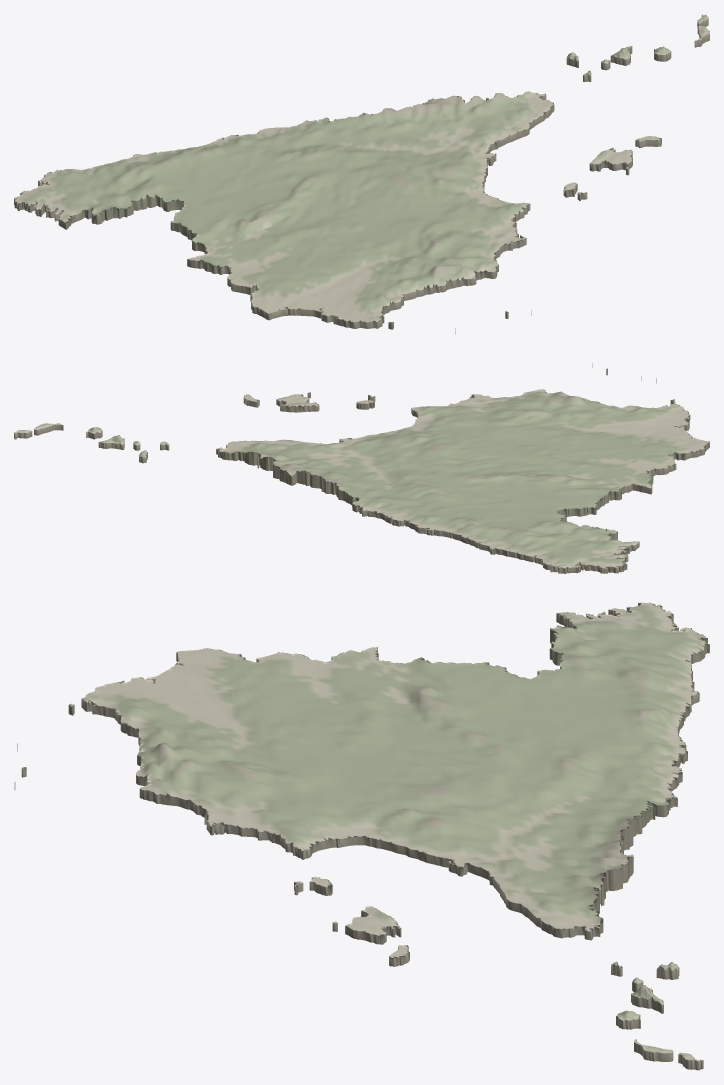
Rendered from es-desktop.glb.
3 renders of one model, top to bottom at view 1: azimuth 30°, elevation 25°; view 2: azimuth 150°, elevation 25°; view 3: azimuth 270°, elevation 25°, orthographic. The views are drawn at different scales.
Bounding box in the file's own units: 129 × 3.02 × 82.55.
